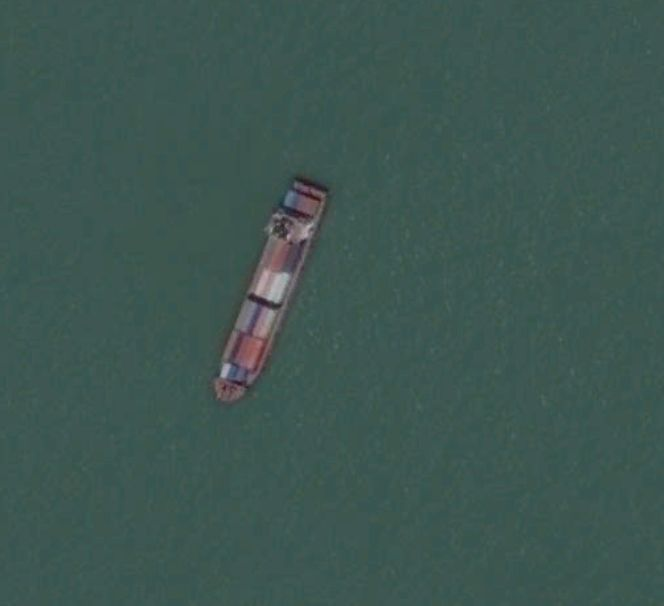boat: (211, 173, 331, 407)
